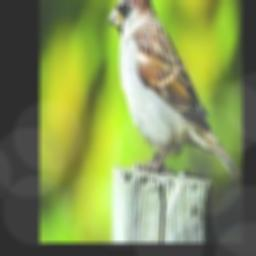Sparrow: (108, 0, 240, 180)
